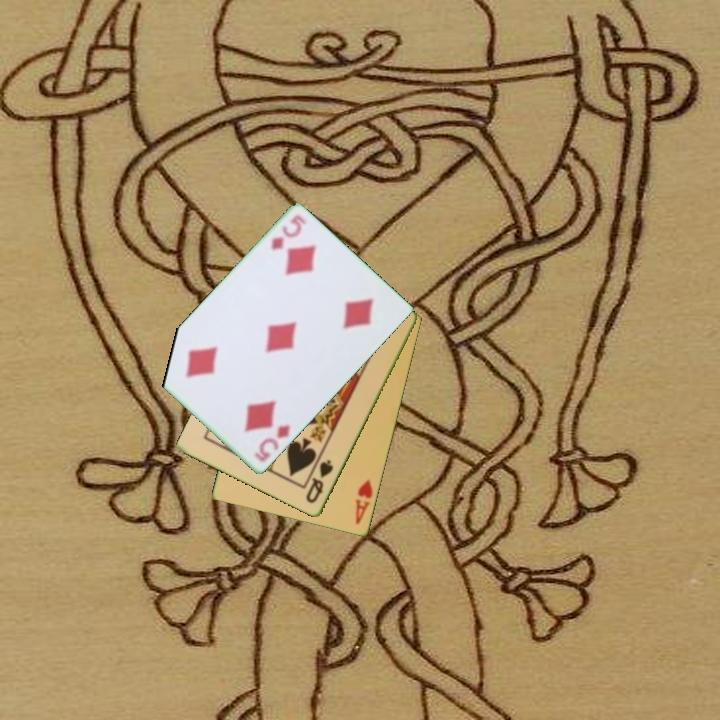5d: (251, 422, 293, 465), (267, 211, 309, 254)
Ah: (352, 476, 376, 527)
Qs: (303, 456, 336, 506)
